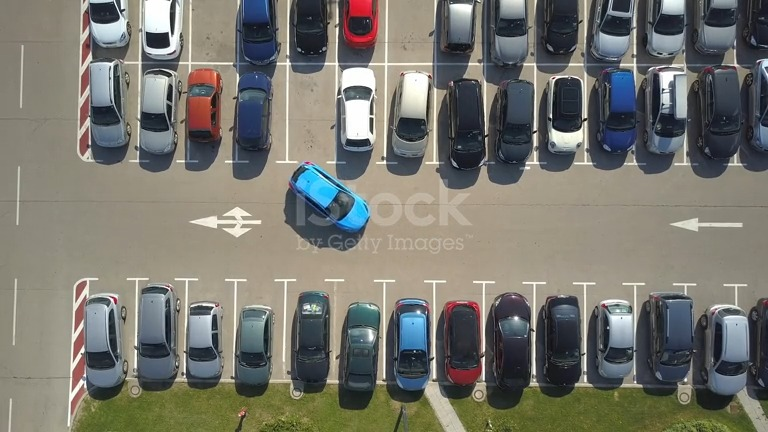car: (290, 161, 369, 232), (696, 304, 750, 395), (78, 293, 127, 388), (692, 66, 742, 158), (489, 292, 534, 389), (134, 284, 179, 380), (645, 292, 694, 380), (89, 57, 131, 147), (542, 295, 584, 385), (392, 298, 433, 390), (642, 66, 685, 153), (140, 68, 182, 154), (594, 68, 636, 152), (448, 78, 487, 168), (293, 291, 331, 383), (342, 302, 380, 391), (496, 79, 536, 162), (545, 75, 587, 154), (337, 67, 376, 151), (444, 301, 483, 385), (393, 70, 430, 157), (595, 299, 635, 379), (236, 305, 272, 385), (186, 301, 222, 379), (238, 0, 281, 65), (235, 72, 271, 149), (590, 0, 634, 62), (491, 0, 531, 66), (691, 0, 738, 55), (187, 68, 221, 141), (141, 0, 183, 59), (642, 0, 685, 57), (744, 58, 767, 153), (542, 0, 582, 54), (291, 0, 329, 55), (89, 0, 131, 47), (441, 0, 474, 56), (342, 0, 377, 48), (741, 0, 767, 49)
